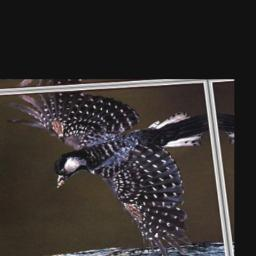Woodpecker: (10, 83, 223, 256)
